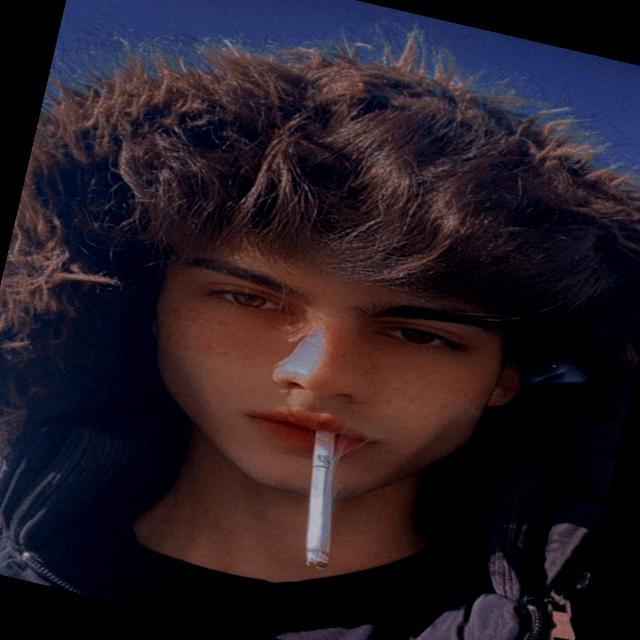cigarette: (263, 418, 385, 582)
